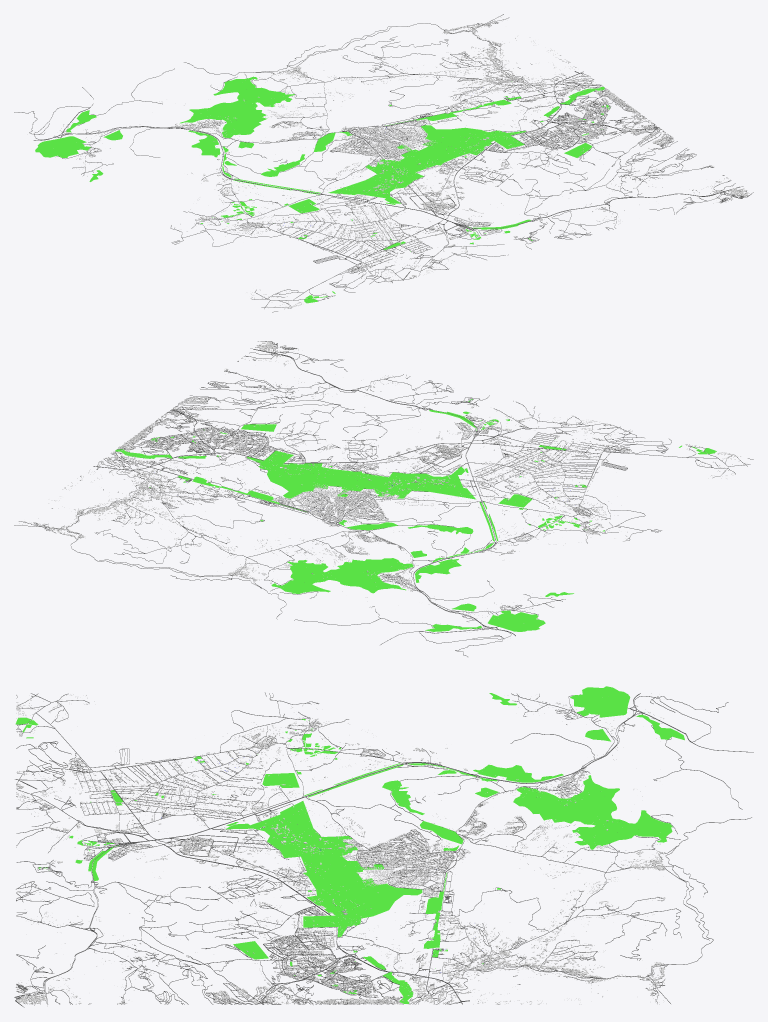
The model's file is damascus_tile_1.glb.
The picture shows the model from 3 angles, top to bottom: view 1: azimuth 30°, elevation 25°; view 2: azimuth 150°, elevation 25°; view 3: azimuth 270°, elevation 25°; orthographic projection. The views are drawn at different scales.
Visible parts, largest first — view 1: damascus_tile_1_road, damascus_tile_1_build, damascus_tile_1_grass; view 2: damascus_tile_1_road, damascus_tile_1_build, damascus_tile_1_grass; view 3: damascus_tile_1_road, damascus_tile_1_build, damascus_tile_1_grass.
Boxes of the visible parts, x1,y1,x2,y2 form: damascus_tile_1_road: (14, 14, 753, 312); damascus_tile_1_build: (27, 17, 749, 309); damascus_tile_1_grass: (35, 76, 610, 303); damascus_tile_1_road: (14, 341, 753, 656); damascus_tile_1_build: (22, 341, 745, 639); damascus_tile_1_grass: (115, 399, 716, 631); damascus_tile_1_road: (14, 692, 753, 1007); damascus_tile_1_build: (16, 693, 665, 1004); damascus_tile_1_grass: (15, 686, 684, 1003).
Bounding box in the file's own units: 703 × 1.56 × 684.
